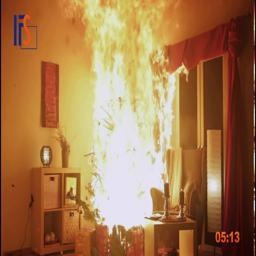fire: (57, 2, 187, 229)
